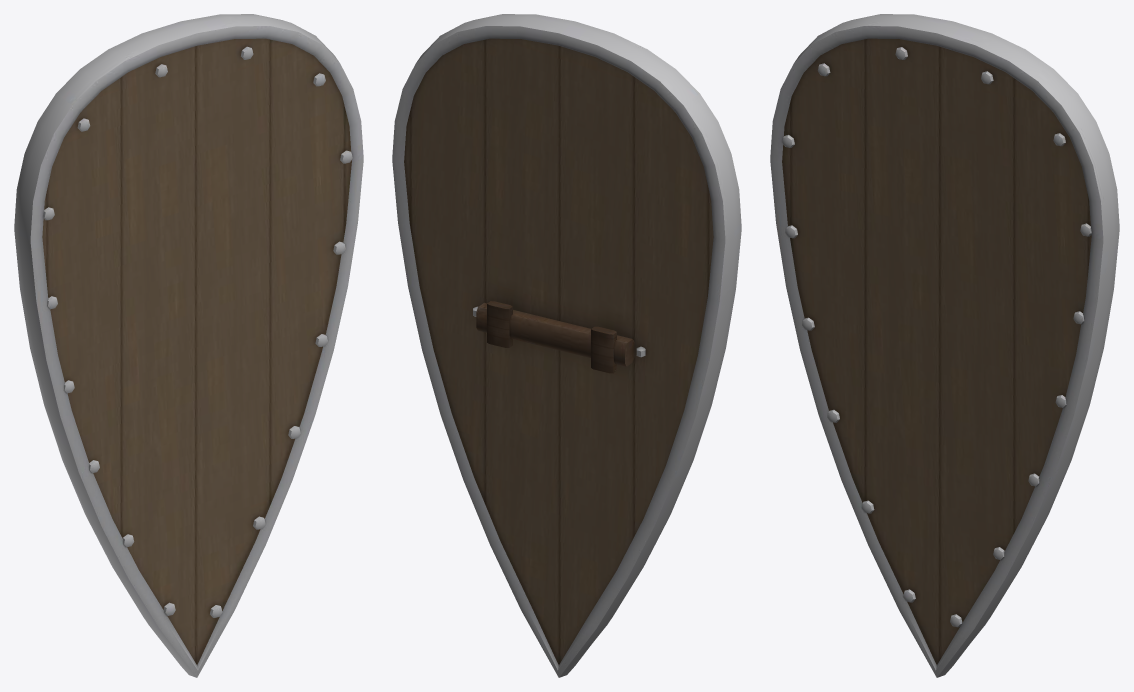
Rendered from skold_droppe.glb.
3 views of the same model, side by side, from view 1: azimuth 30°, elevation 25°; view 2: azimuth 150°, elevation 25°; view 3: azimuth 330°, elevation 25° (orthographic).
Parts seen in each view (by area): view 1: SM_V_skold_droppe, SM_V_skold_droppe_Faste; view 2: SM_V_skold_droppe, SM_V_skold_droppe_Faste; view 3: SM_V_skold_droppe, SM_V_skold_droppe_Faste.
Boxes of the visible parts, x1=… form: SM_V_skold_droppe: x1=42, y1=38, x2=351, y2=665; SM_V_skold_droppe_Faste: x1=14, y1=14, x2=363, y2=677; SM_V_skold_droppe: x1=404, y1=38, x2=713, y2=665; SM_V_skold_droppe_Faste: x1=392, y1=14, x2=741, y2=677; SM_V_skold_droppe: x1=782, y1=38, x2=1091, y2=665; SM_V_skold_droppe_Faste: x1=770, y1=14, x2=1119, y2=677.
Size of the model in its own units: 0.456 by 0.836 by 0.065.
Materials: 1 (1 with a texture image).
